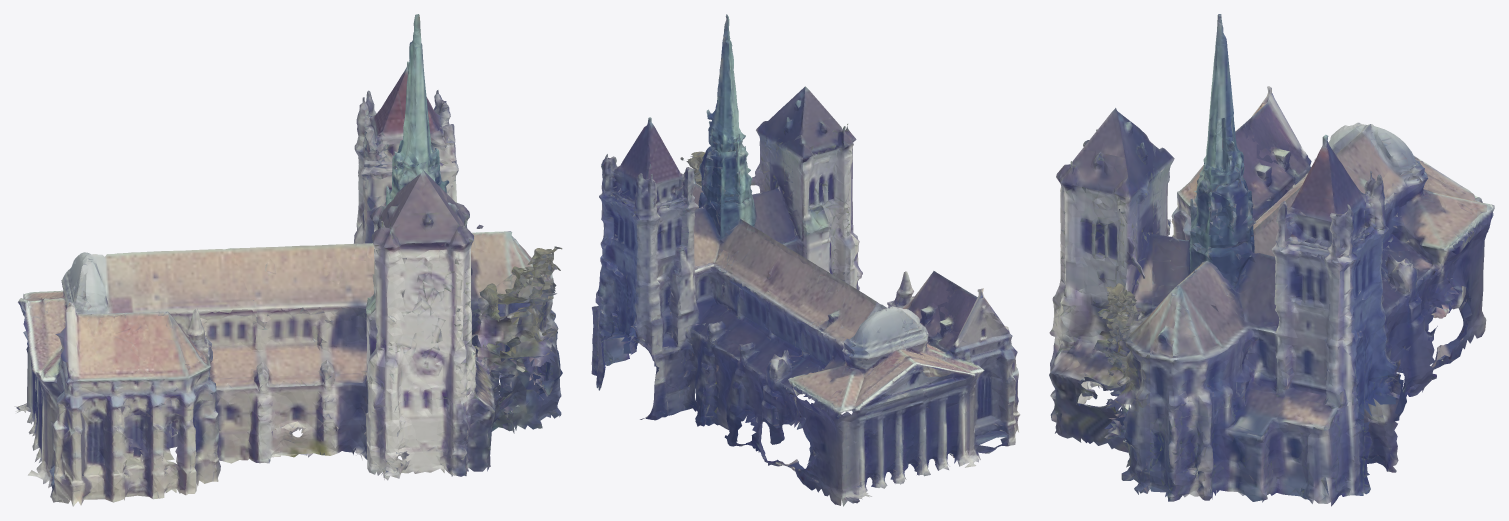
File: cathedrale-saint-pierre.glb
3 renders of one model, left to right at view 1: azimuth 30°, elevation 25°; view 2: azimuth 150°, elevation 25°; view 3: azimuth 270°, elevation 25°, orthographic. The views are drawn at different scales.
Size of the model in its own units: 75.65 by 65.63 by 58.25.
Materials: 2 (2 with a texture image).
